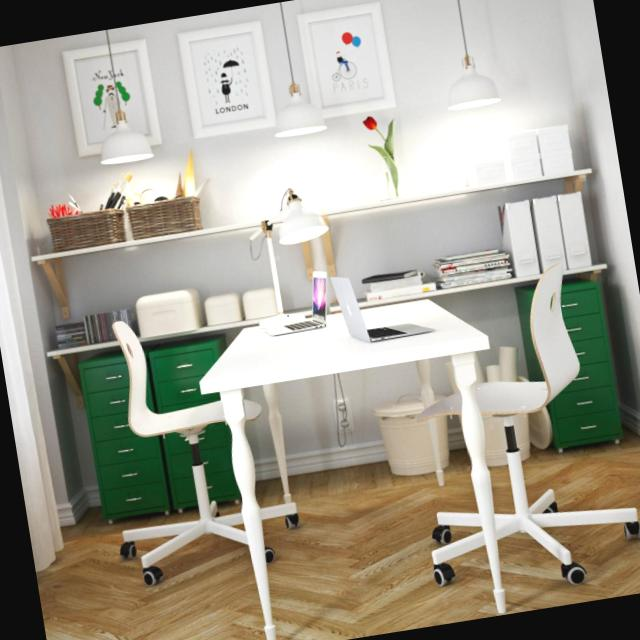obstacle: (187, 279, 538, 640), (387, 254, 640, 608), (80, 292, 313, 590)
